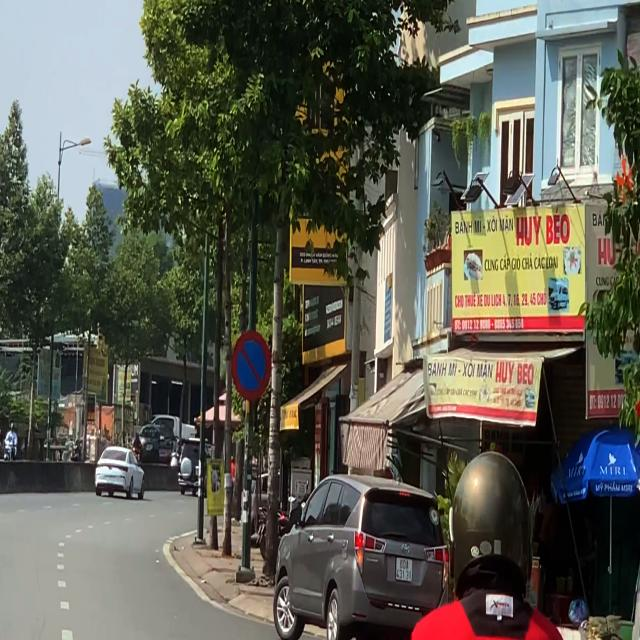Cam do: (232, 328, 275, 402)
